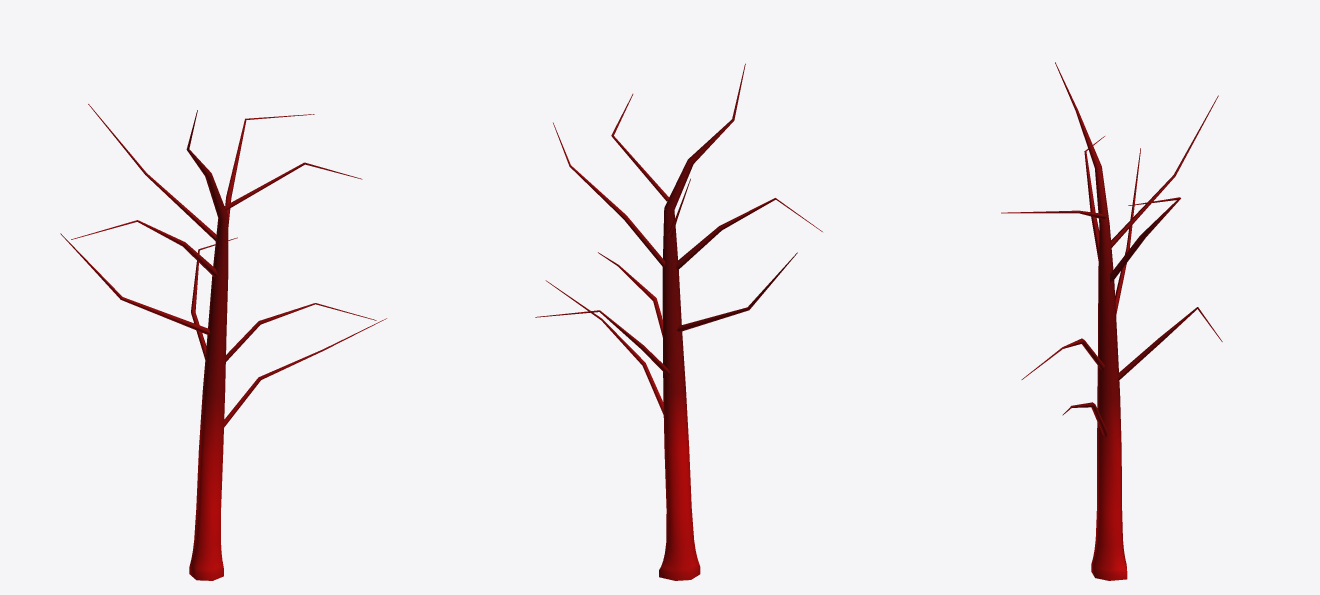
The model's file is oak_b_lod2.glb.
The picture shows the model from 3 angles, left to right: view 1: azimuth 30°, elevation 25°; view 2: azimuth 150°, elevation 25°; view 3: azimuth 270°, elevation 25°; orthographic projection.
Parts seen in each view (by area): view 1: oak_b_LOD2; view 2: oak_b_LOD2; view 3: oak_b_LOD2.
Boxes of the visible parts, left/top/right/bottom form: oak_b_LOD2: left=60, top=104, right=386, bottom=580; oak_b_LOD2: left=535, top=63, right=822, bottom=580; oak_b_LOD2: left=1001, top=62, right=1222, bottom=580.
Bounding box in the file's own units: 13.35 × 19.21 × 12.63.
